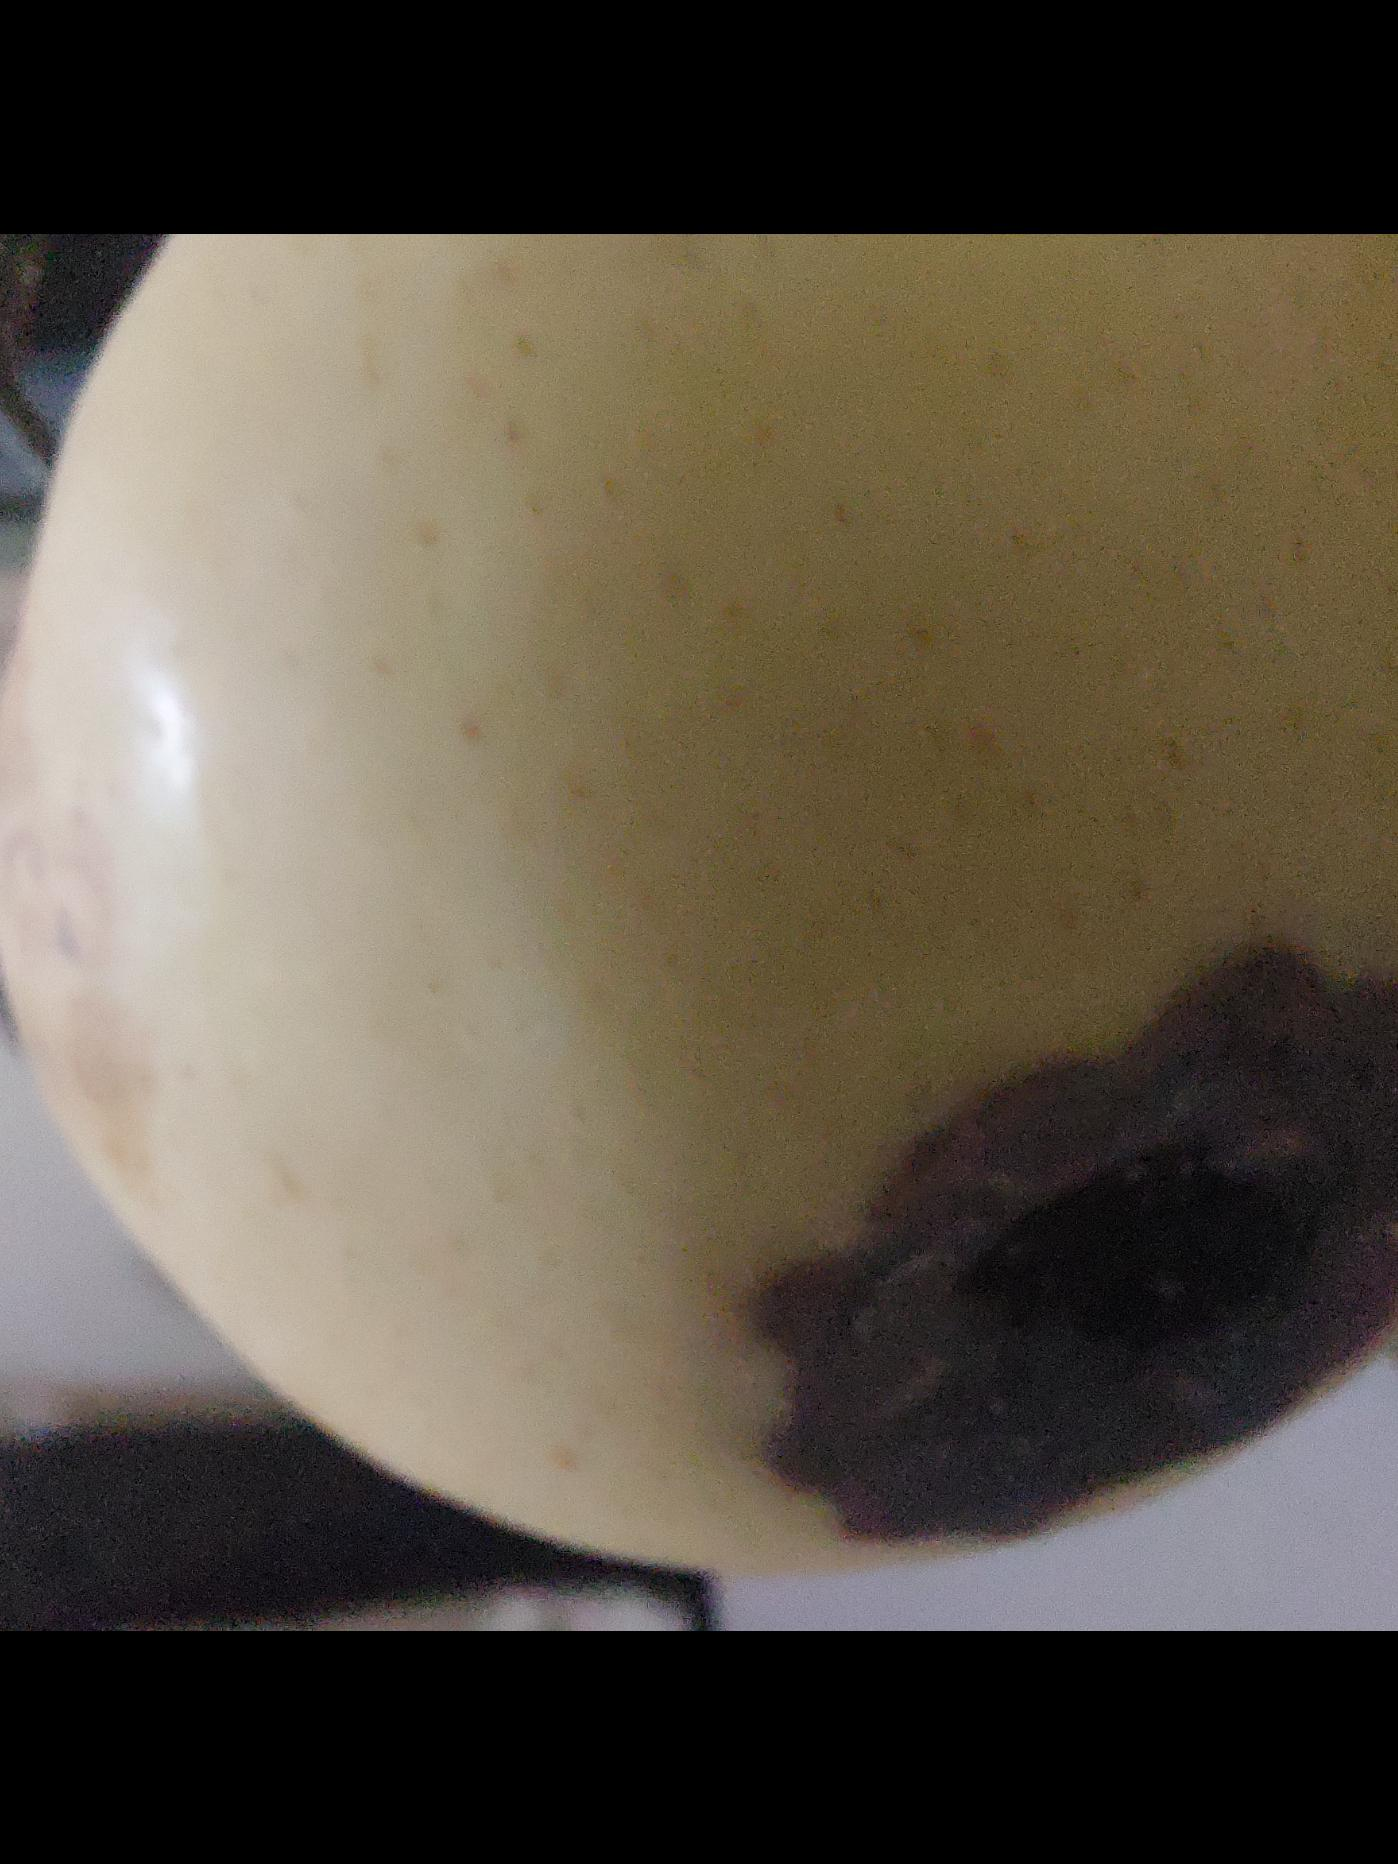Bad Pear: (0, 233, 1398, 1587)
